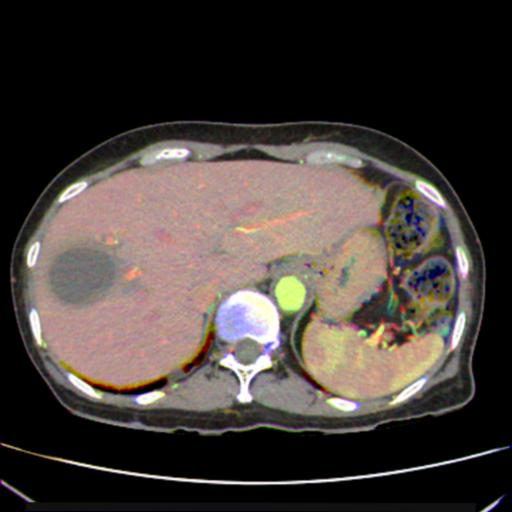Abscess: (49, 248, 114, 304)
